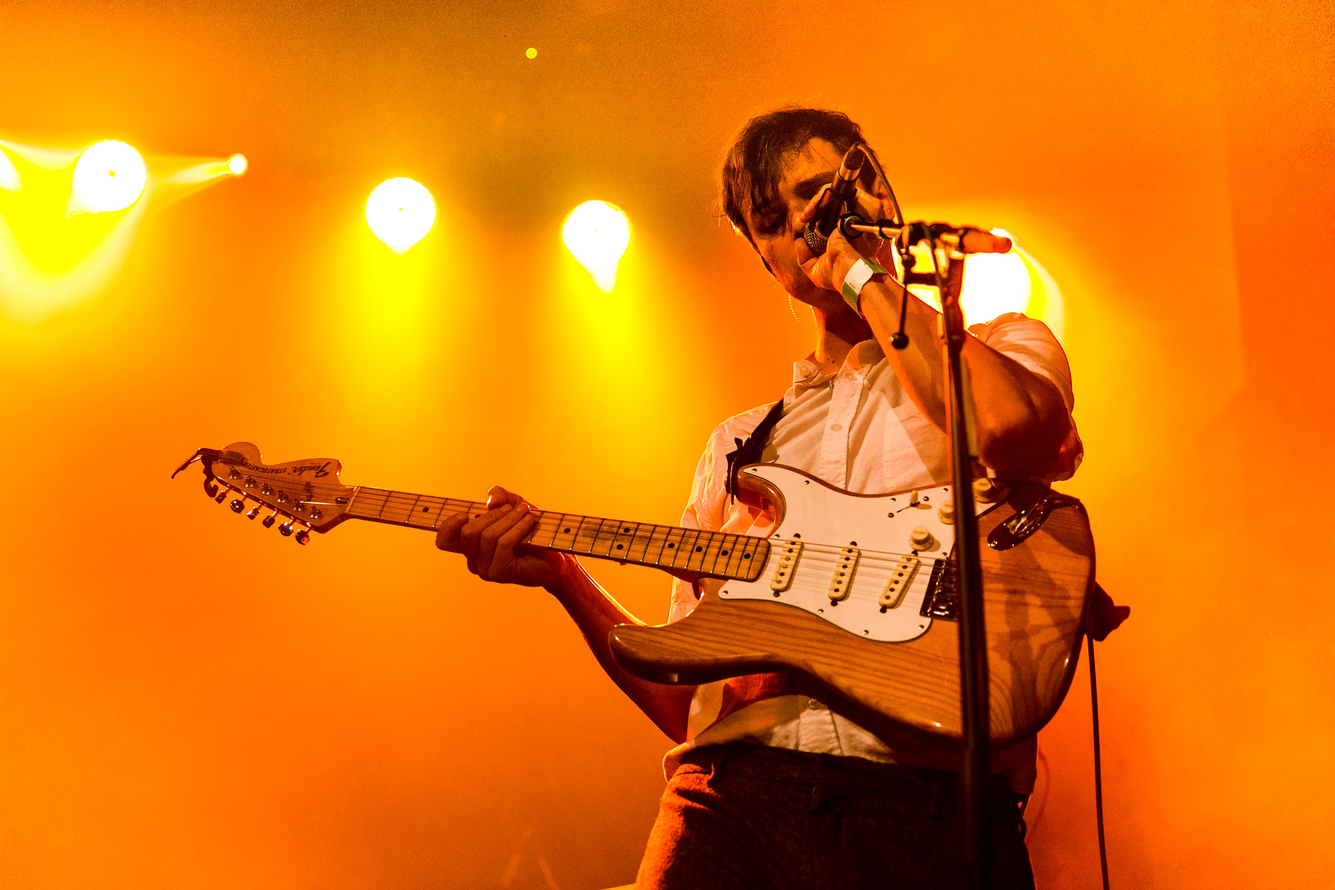acousticguitar: (206, 445, 1080, 762)
